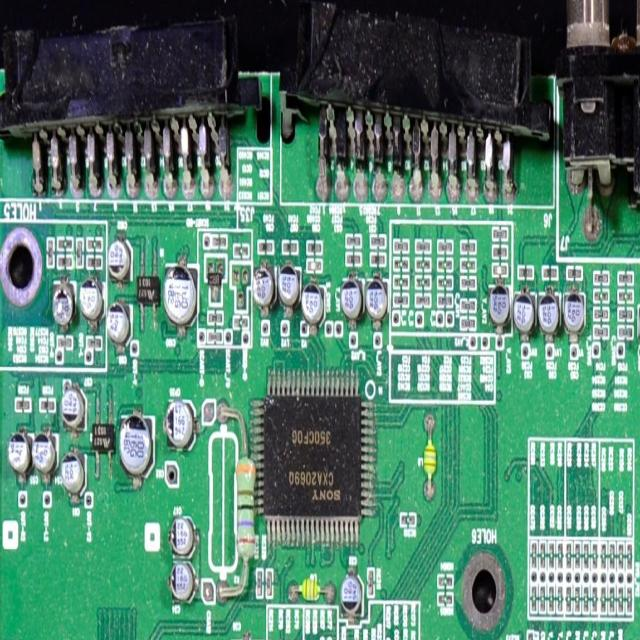IC: (251, 374, 394, 534), (136, 273, 162, 308)
capacitor: (156, 540, 198, 604), (158, 499, 206, 550), (164, 260, 196, 330), (161, 396, 198, 451), (107, 294, 132, 349), (49, 279, 74, 331), (274, 264, 302, 310), (299, 282, 328, 326), (535, 288, 560, 338), (252, 262, 276, 314), (364, 275, 388, 327), (559, 290, 586, 336), (108, 237, 131, 290), (79, 275, 104, 322), (489, 282, 512, 330), (511, 290, 536, 334), (59, 389, 84, 432), (340, 280, 363, 321), (85, 331, 106, 351), (56, 331, 78, 350), (226, 635, 273, 640), (638, 304, 640, 352)
resistor: (44, 231, 58, 269), (55, 234, 77, 252), (233, 241, 252, 260), (87, 234, 104, 255), (74, 236, 84, 268)
transistor: (230, 261, 254, 315), (203, 253, 225, 308)
